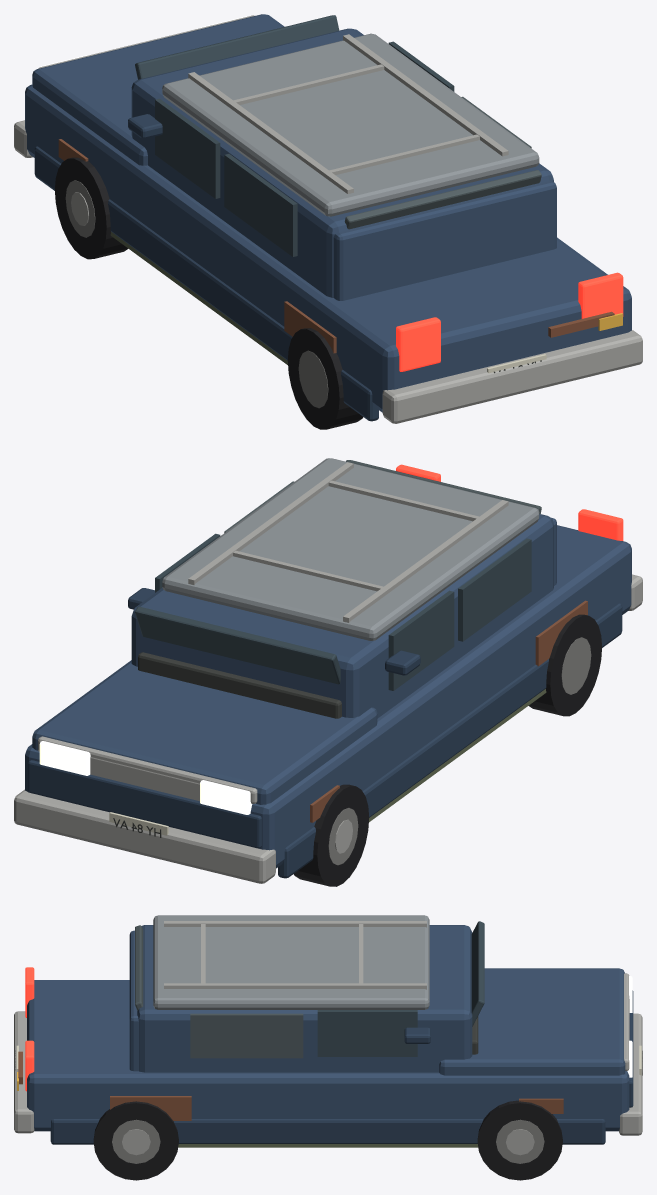
The model's file is lake_car.glb.
3 renders of one model, top to bottom at view 1: azimuth 30°, elevation 25°; view 2: azimuth 150°, elevation 25°; view 3: azimuth 270°, elevation 25°, orthographic. The views are drawn at different scales.
Parts seen in each view (by area): view 1: body_lower, roof, tailgate, cabin, hood, rear_bumper, body_sill_l, side_glass_rear_l, side_glass_front_l, windscreen, tyre_fl, tyre_rl (+13 smaller); view 2: roof, hood, body_lower, cabin, front_bumper, front_valance, body_sill_l, windscreen, side_glass_rear_l, dash, tyre_fl, side_glass_front_l (+16 smaller); view 3: body_lower, roof, hood, cabin, body_sill_r, side_glass_rear_r, side_glass_front_r, tyre_fr, tyre_rr, roof_rack_r, roof_rack_l, front_bumper (+14 smaller).
Boxes of the visible parts, x1=… form: body_lower: x1=25, y1=84, x2=631, y2=412; roof: x1=162, y1=33, x2=539, y2=216; tailgate: x1=333, y1=180, x2=556, y2=300; cabin: x1=131, y1=28, x2=553, y2=297; hood: x1=32, y1=14, x2=284, y2=165; rear_bumper: x1=382, y1=330, x2=642, y2=423; body_sill_l: x1=34, y1=146, x2=378, y2=421; side_glass_rear_l: x1=224, y1=154, x2=297, y2=256; side_glass_front_l: x1=155, y1=98, x2=220, y2=198; windscreen: x1=135, y1=15, x2=339, y2=79; tyre_fl: x1=55, y1=157, x2=128, y2=259; tyre_rl: x1=287, y1=328, x2=363, y2=429; roof: x1=162, y1=458, x2=539, y2=640; hood: x1=32, y1=660, x2=377, y2=804; body_lower: x1=25, y1=525, x2=631, y2=868; cabin: x1=131, y1=514, x2=553, y2=718; front_bumper: x1=14, y1=789, x2=275, y2=883; front_valance: x1=28, y1=760, x2=261, y2=848; body_sill_l: x1=278, y1=603, x2=622, y2=878; windscreen: x1=135, y1=606, x2=340, y2=684; side_glass_rear_l: x1=458, y1=538, x2=531, y2=641; dash: x1=138, y1=652, x2=341, y2=718; tyre_fl: x1=293, y1=784, x2=369, y2=886; side_glass_front_l: x1=388, y1=590, x2=454, y2=690; body_lower: x1=27, y1=980, x2=629, y2=1131; roof: x1=153, y1=915, x2=429, y2=1009; hood: x1=439, y1=968, x2=625, y2=1075; cabin: x1=137, y1=925, x2=472, y2=1072; body_sill_r: x1=50, y1=1119, x2=605, y2=1144; side_glass_rear_r: x1=190, y1=1013, x2=303, y2=1058; side_glass_front_r: x1=317, y1=1010, x2=417, y2=1056; tyre_fr: x1=477, y1=1100, x2=562, y2=1180; tyre_rr: x1=93, y1=1101, x2=178, y2=1180; roof_rack_r: x1=164, y1=983, x2=426, y2=989; roof_rack_l: x1=164, y1=921, x2=426, y2=927; front_bumper: x1=619, y1=1013, x2=642, y2=1135.
Size of the model in its own units: 2.02 by 1.46 by 4.78.
